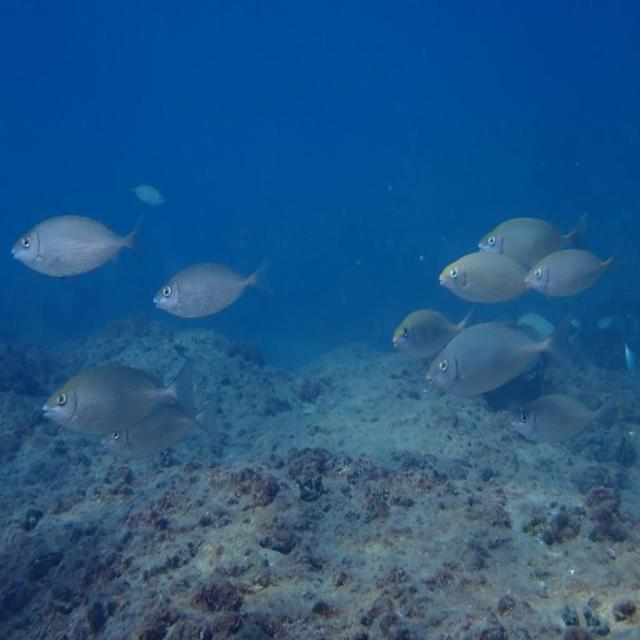Sokar Baligi: (36, 347, 207, 441), (2, 199, 158, 286), (151, 242, 283, 327)
